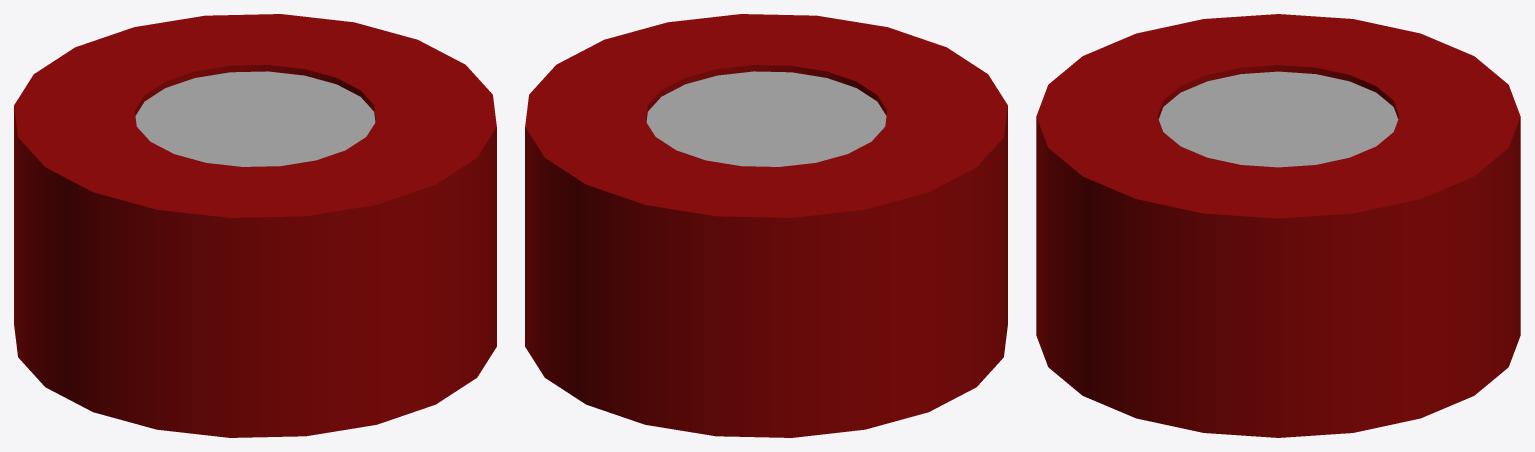
The picture shows the model from 3 angles, left to right: view 1: azimuth 30°, elevation 25°; view 2: azimuth 150°, elevation 25°; view 3: azimuth 270°, elevation 25°; orthographic projection.
Visible parts, largest first — view 1: pPipe1, pCylinder1_phys; view 2: pPipe1, pCylinder1_phys; view 3: pPipe1, pCylinder1_phys.
Boxes of the visible parts, x1,y1,x2,y2 form: pPipe1: [14, 14, 496, 437]; pCylinder1_phys: [135, 71, 375, 166]; pPipe1: [525, 14, 1007, 437]; pCylinder1_phys: [646, 71, 886, 166]; pPipe1: [1036, 14, 1520, 437]; pCylinder1_phys: [1158, 71, 1398, 167].
Size of the model in its own units: 39.37 by 19.69 by 39.37.
